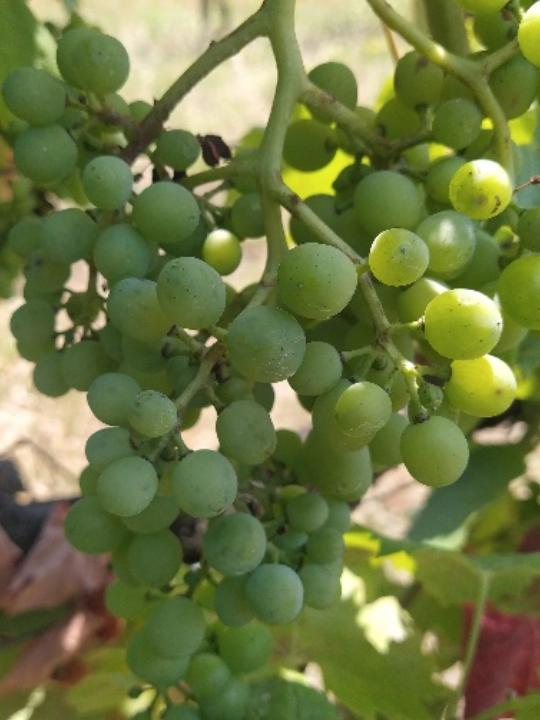grape: (5, 0, 540, 720)
